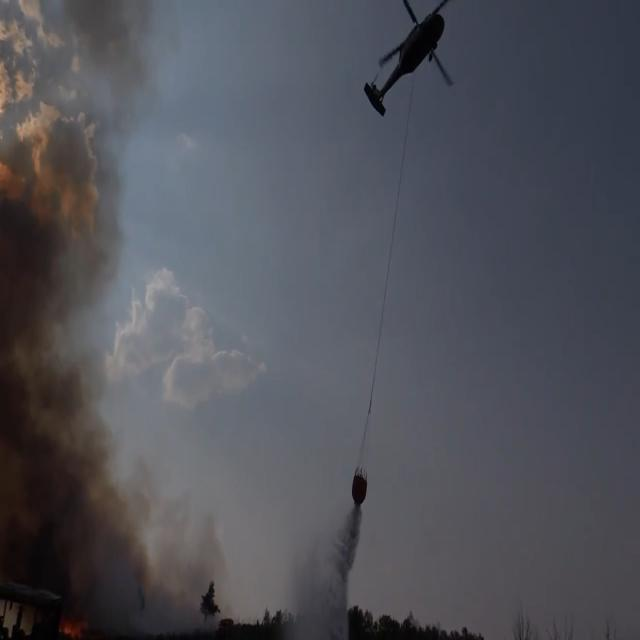Fire: (42, 583, 92, 640)
